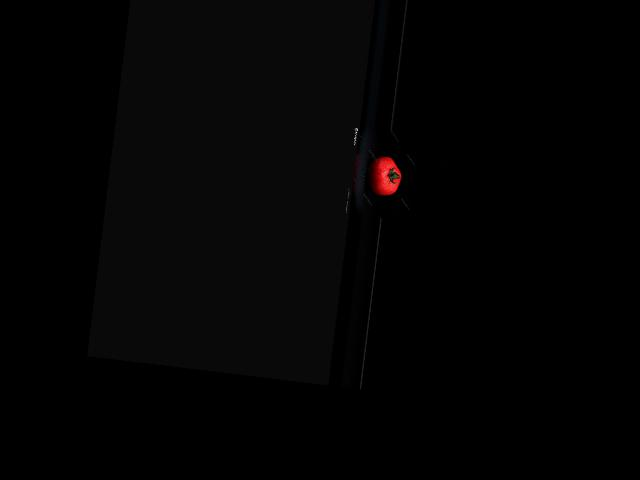tomato: (365, 154, 403, 198)
